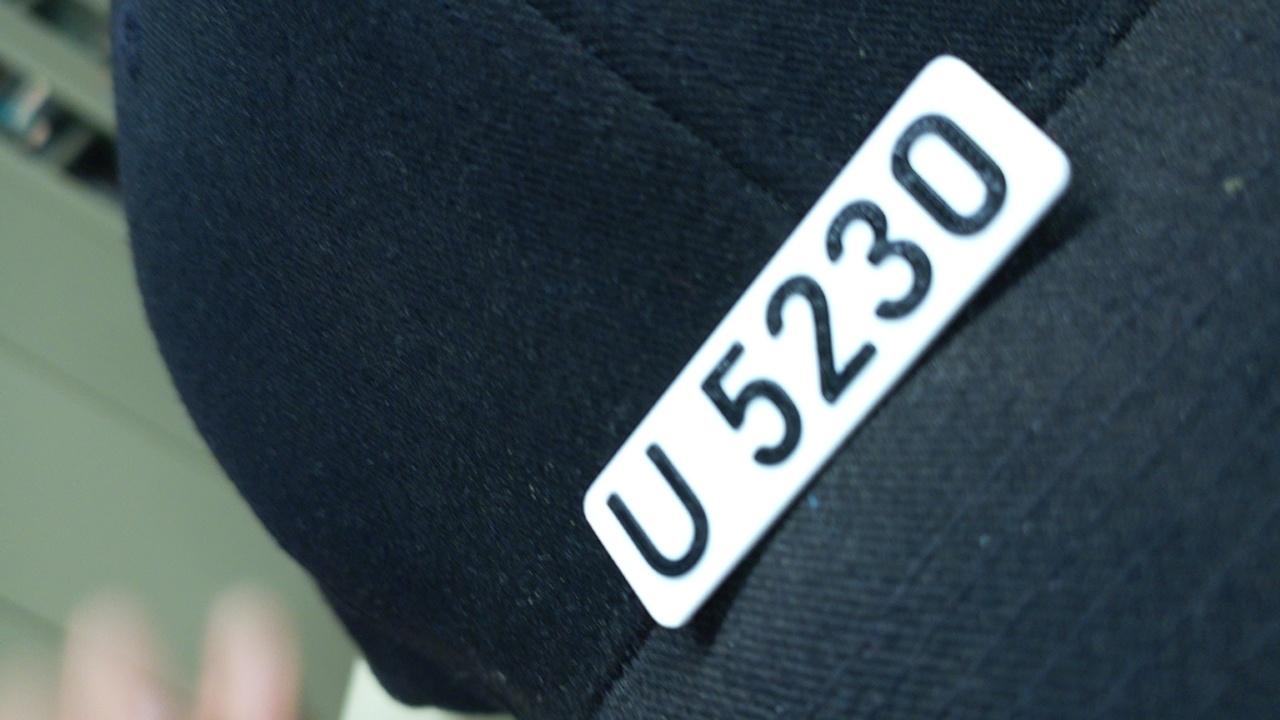license_plate: (574, 49, 1079, 636)
